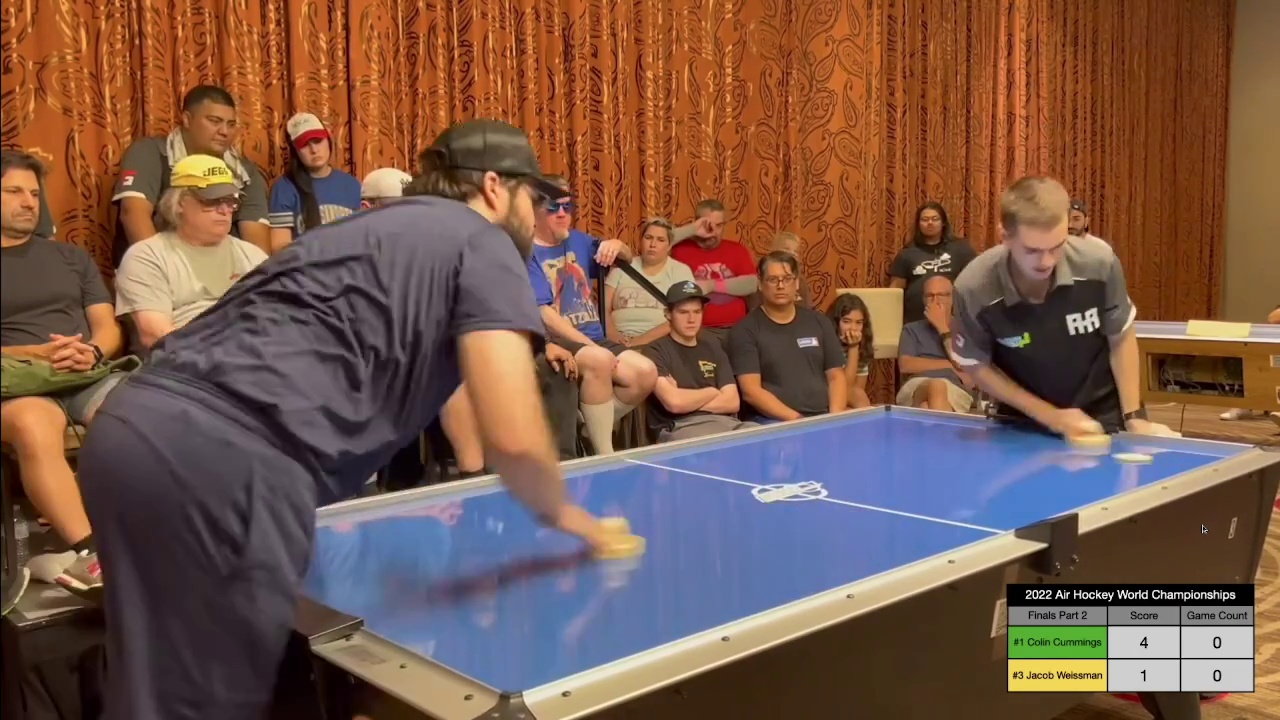player: (593, 514, 654, 556), (1068, 418, 1119, 452)
puck: (1114, 448, 1157, 470)
table: (214, 399, 1268, 716)
